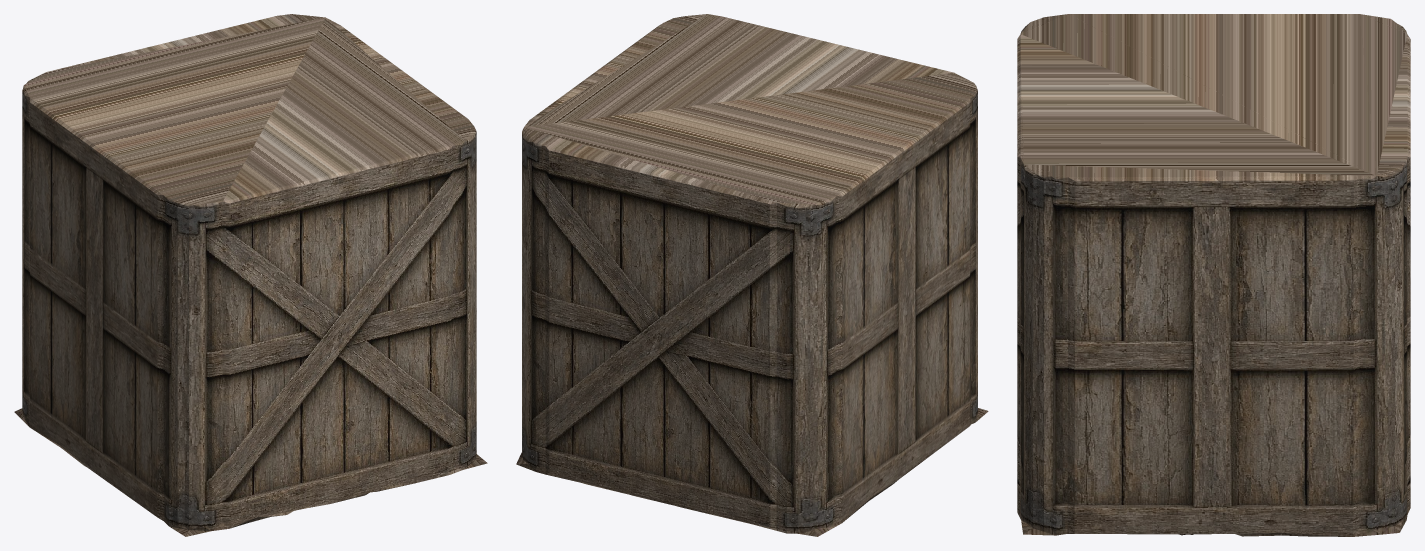
The model's file is crate_med.glb.
3 views of the same model, side by side, from view 1: azimuth 30°, elevation 25°; view 2: azimuth 150°, elevation 25°; view 3: azimuth 270°, elevation 25° (orthographic). The views are drawn at different scales.
Visible parts, largest first — view 1: crate_med; view 2: crate_med; view 3: crate_med.
Boxes of the visible parts, bbox=[...] form: crate_med: bbox=[14, 14, 487, 536]; crate_med: bbox=[516, 14, 988, 536]; crate_med: bbox=[1017, 14, 1410, 536].
Bounding box in the file's own units: 0.7928 × 0.7974 × 0.7928.
1 material, 1 textured.
